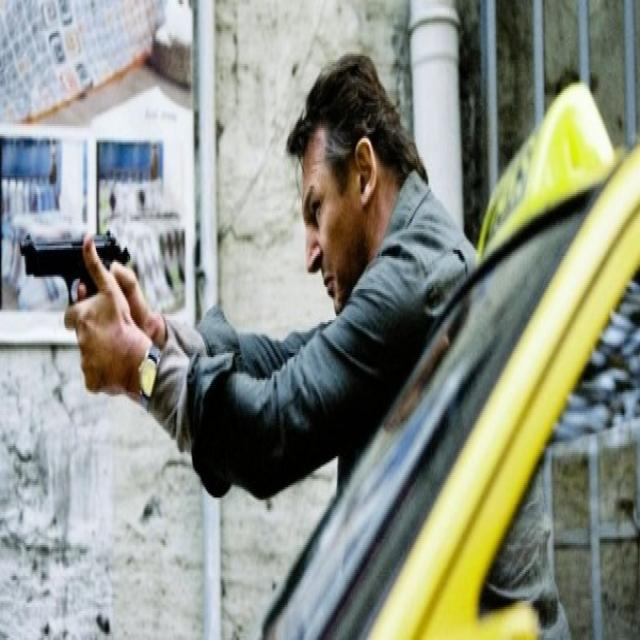weapons: (12, 212, 132, 366)
